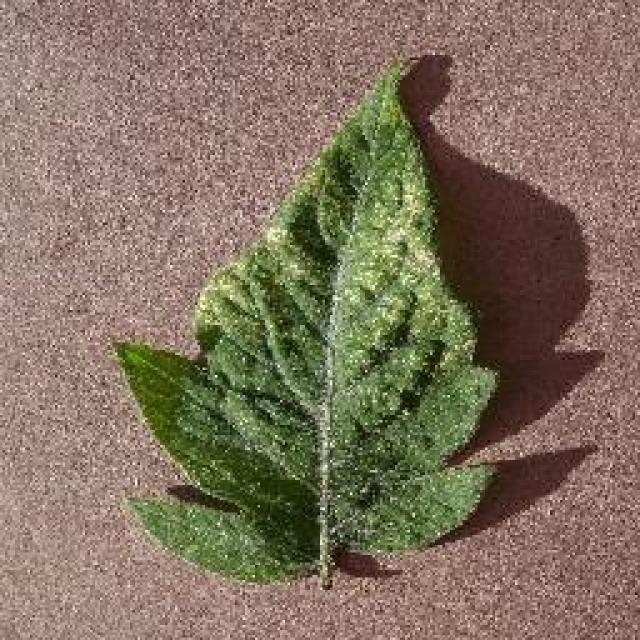Tomato mosaic virus leaf: (112, 60, 500, 588)
